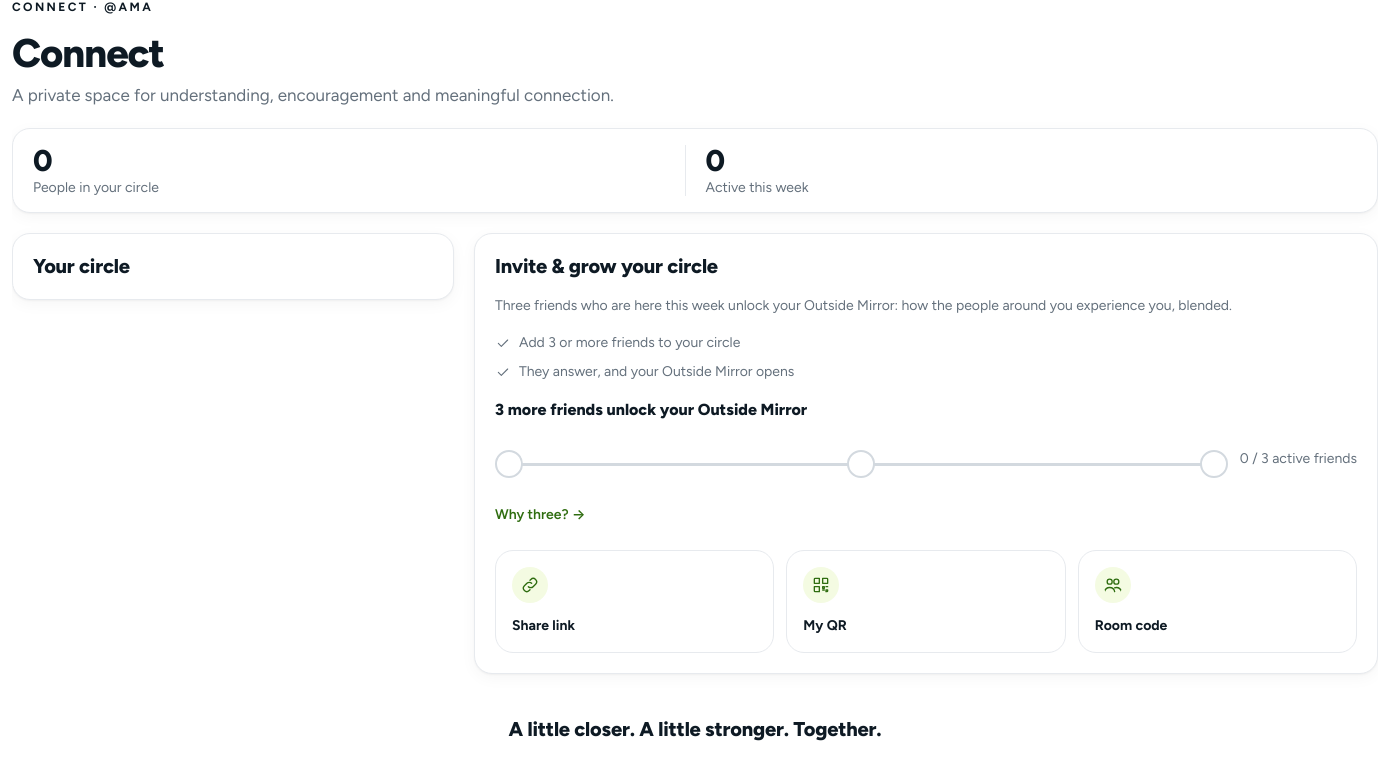
Scenario: the circle › joins a room by its code and opens one for a team
expect the heading "Your circle" is shown: met, box [33,254,130,278]
Step 1. Click the button "Room code" → (1113,585), box [1078,550,1357,653]
(page scrolled)
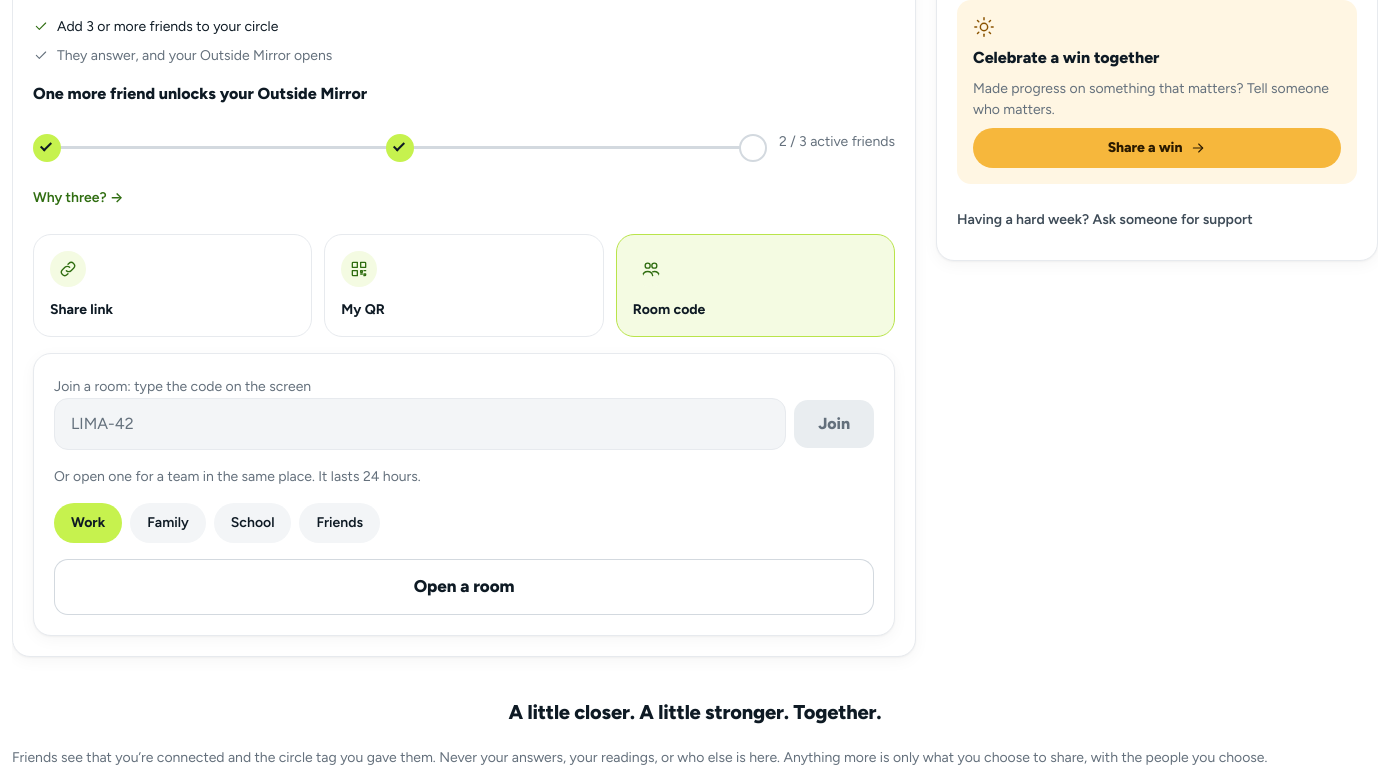
Step 2. Type "nope-11" into the field labelled "Join a room: type the code on the screen" → (420,424), box [54,398,786,450]
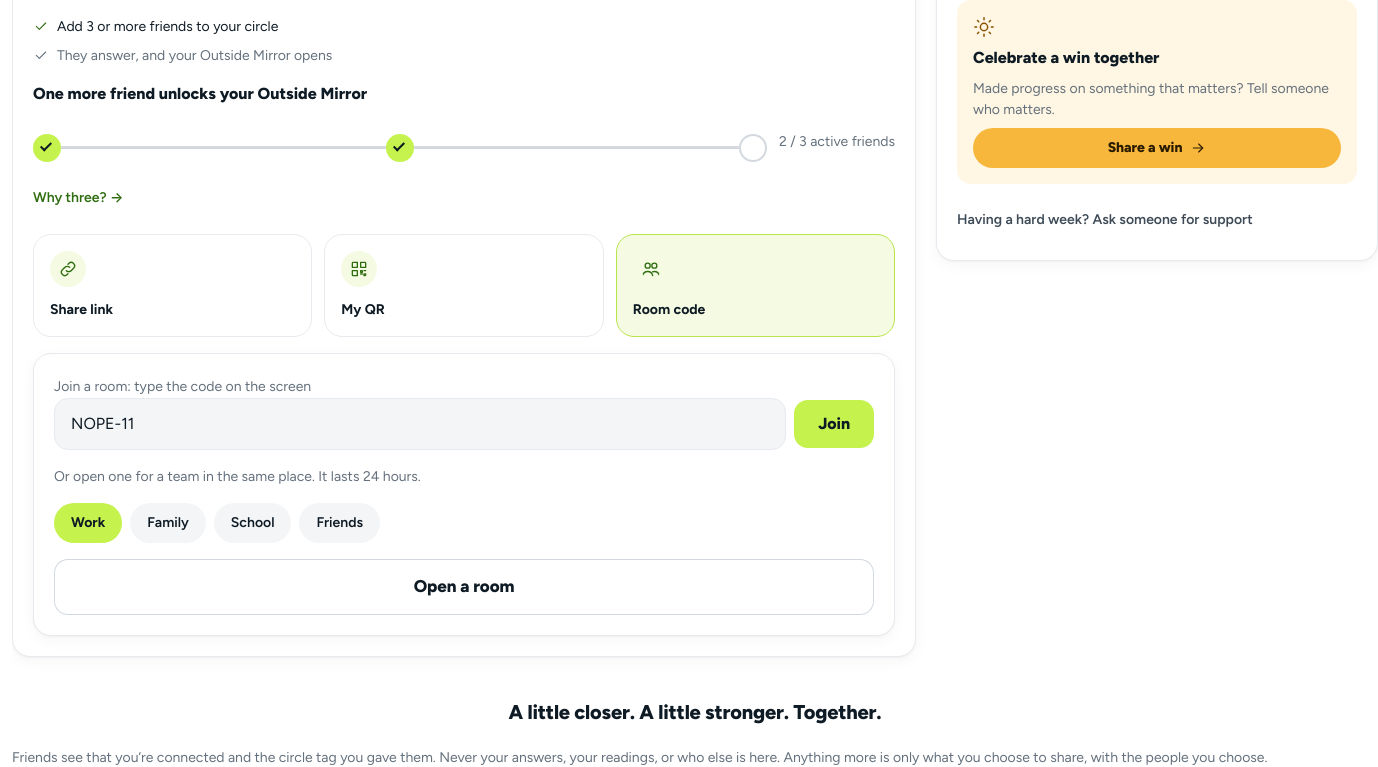
Step 3. Click the button "Join" → (834,424), box [794,400,874,448]
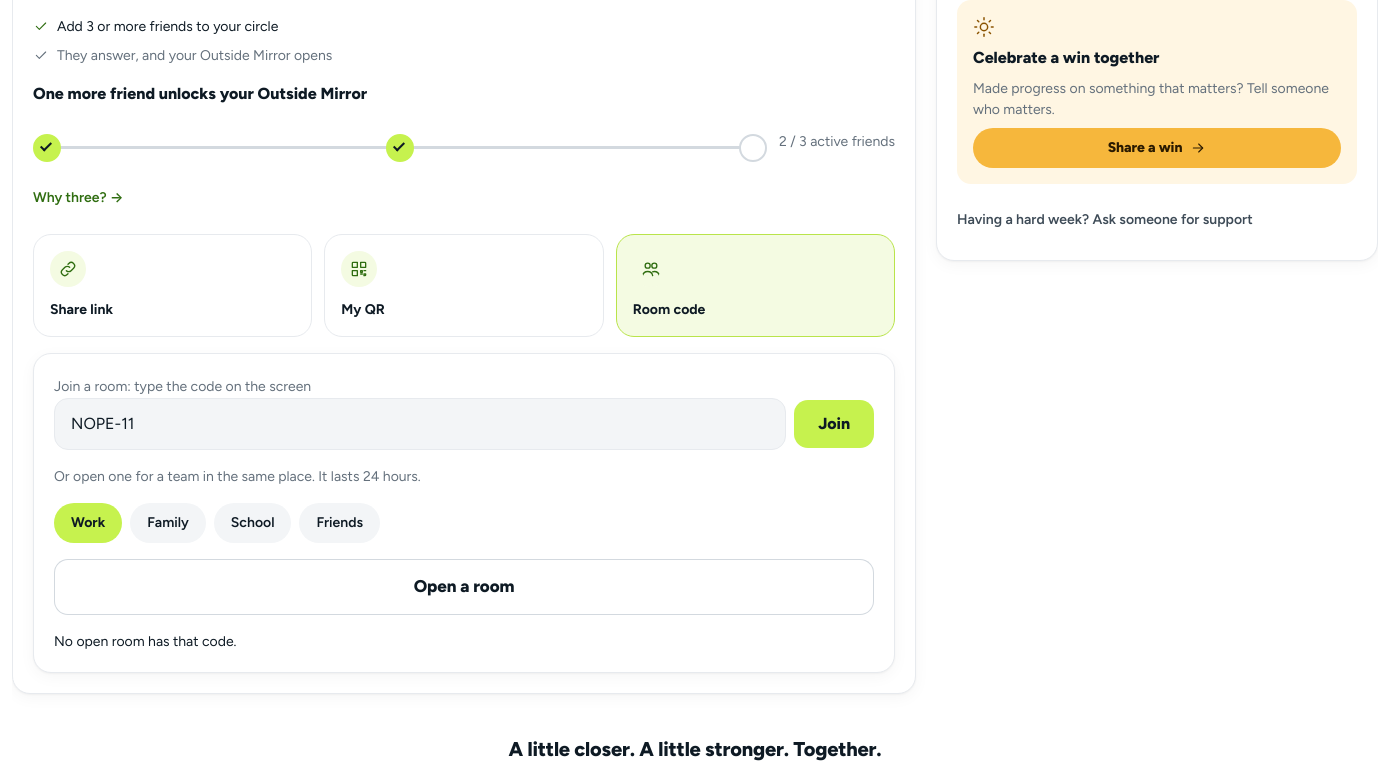
expect the text "No open room has that code." is shown: met, box [54,632,236,650]
Step 4. Replace the text in the field labelled "Join a room: type the code on the screen" with "lima-42" → (420,424), box [54,398,786,450]
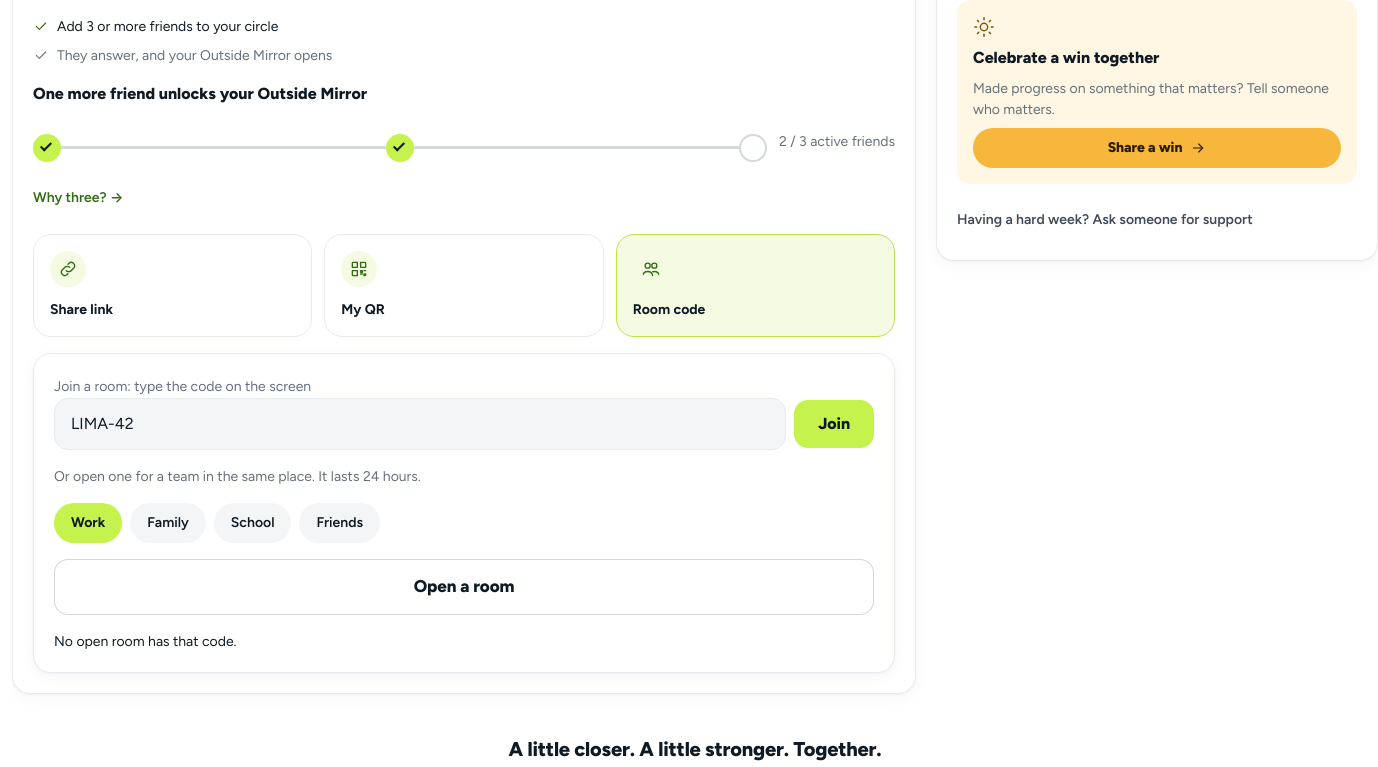
Step 5. Click the button "Join" → (834,424), box [794,400,874,448]
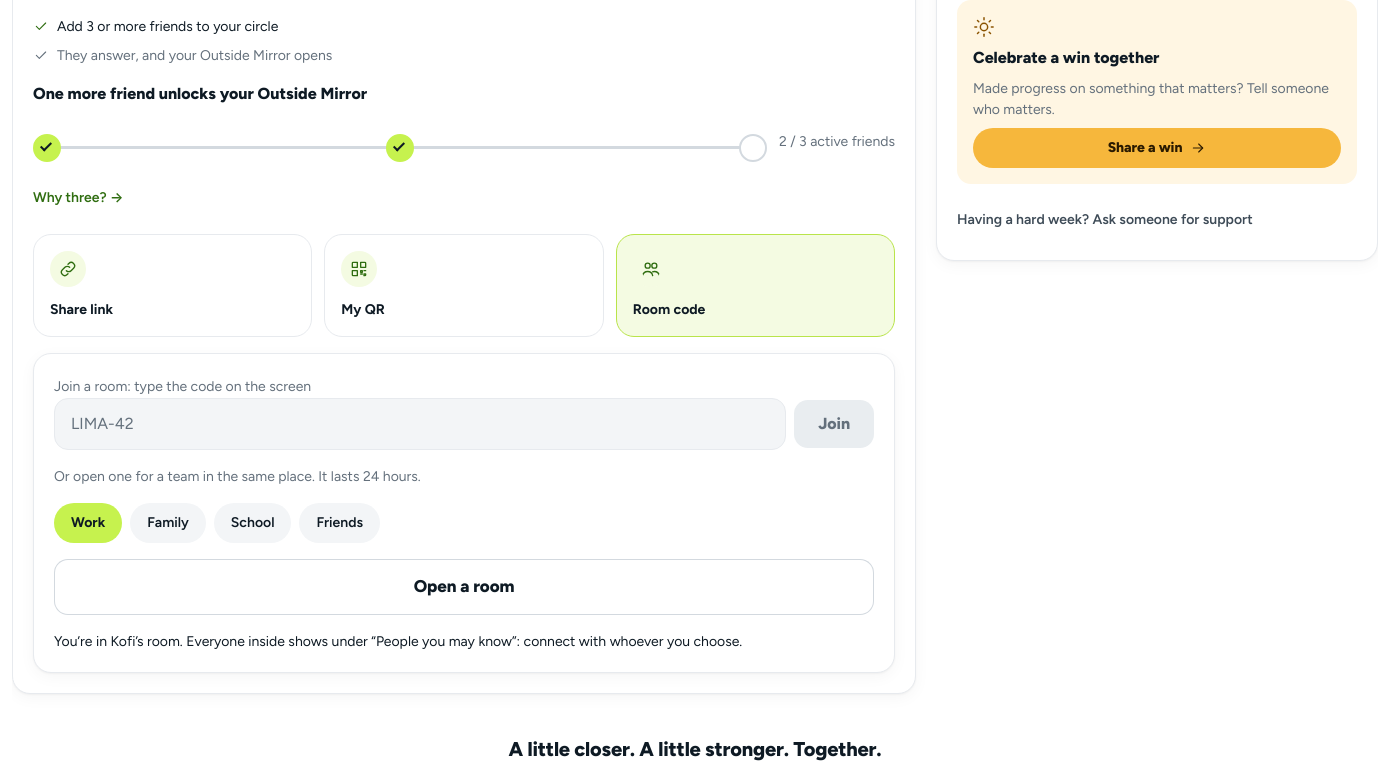
expect the text "You’re in Kofi’s room" is shown: met, box [54,632,742,650]
